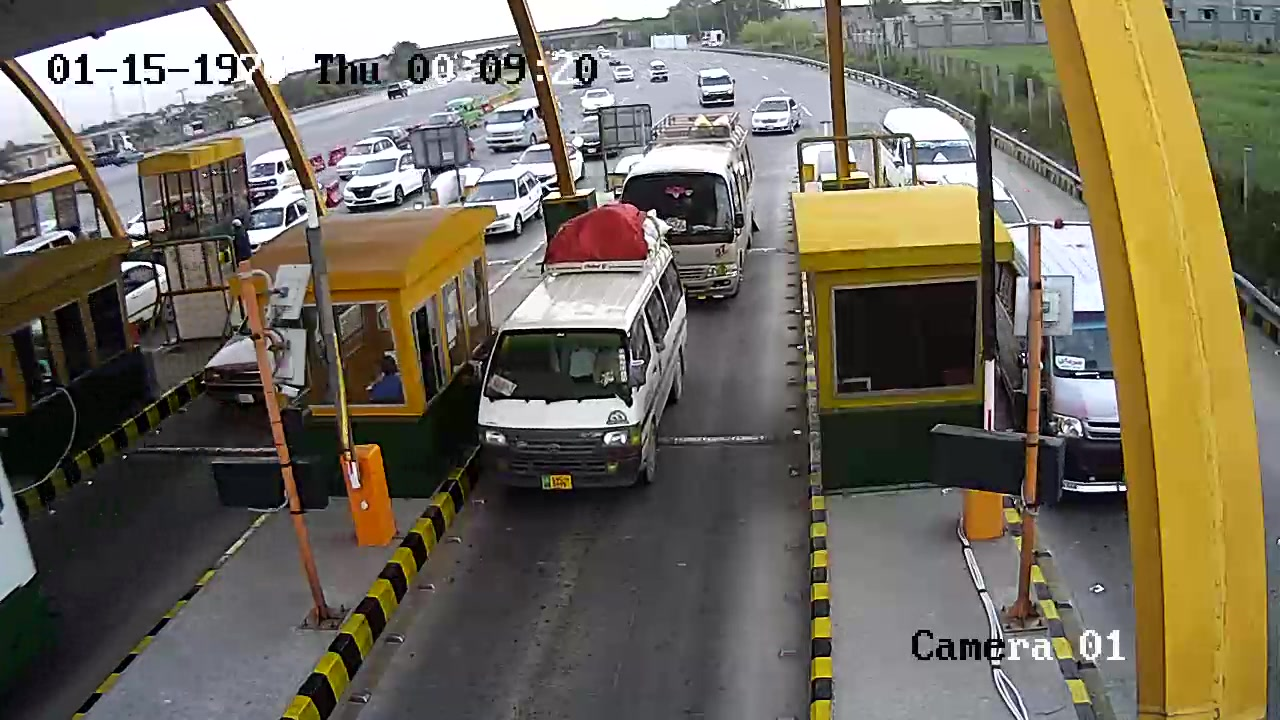F3: (466, 205, 689, 504)
